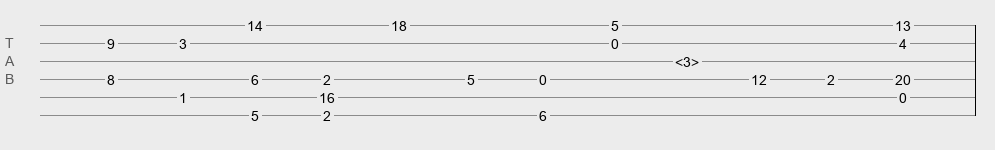0: (539, 72, 547, 82), (611, 36, 619, 46), (899, 90, 907, 100)
1: (179, 90, 187, 100)
12: (751, 72, 767, 82)
13: (895, 18, 911, 28)
14: (247, 18, 263, 28)
16: (319, 90, 335, 100)
18: (391, 18, 407, 28)
2: (323, 72, 331, 82), (323, 108, 331, 118), (827, 72, 835, 82)
20: (895, 72, 911, 82)
3: (179, 36, 187, 46)
4: (899, 36, 907, 46)
5: (251, 108, 259, 118), (467, 72, 475, 82), (611, 18, 619, 28)
6: (251, 72, 259, 82), (539, 108, 547, 118)
8: (107, 72, 115, 82)
9: (107, 36, 115, 46)
harmonic: (675, 54, 699, 64)
